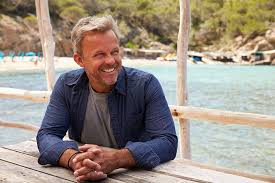white_male: (76, 39, 128, 88)
